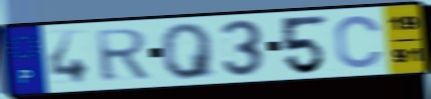3: (218, 18, 268, 78)
4: (49, 28, 94, 87)
5: (277, 14, 330, 76)
C: (333, 13, 386, 70)
Q: (158, 21, 218, 82)
R: (93, 27, 153, 84)
